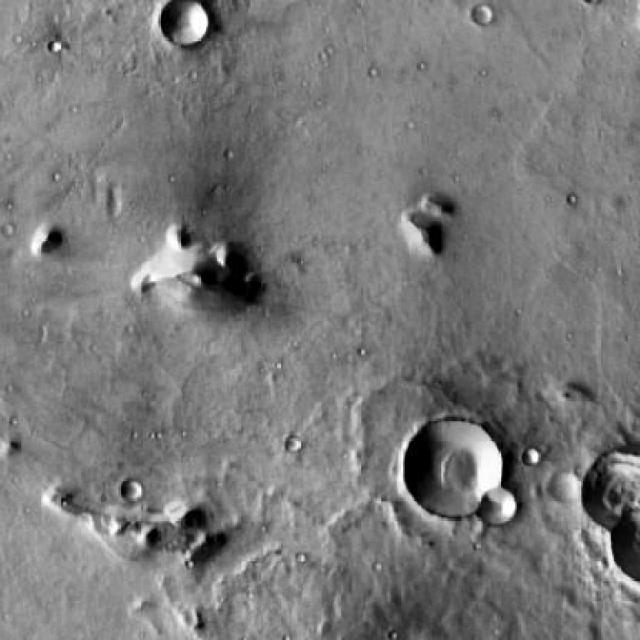crater: (402, 422, 503, 523), (156, 1, 207, 41), (474, 487, 514, 527), (549, 468, 583, 502), (121, 478, 144, 500), (471, 6, 489, 25), (524, 448, 542, 467), (286, 434, 302, 452)
